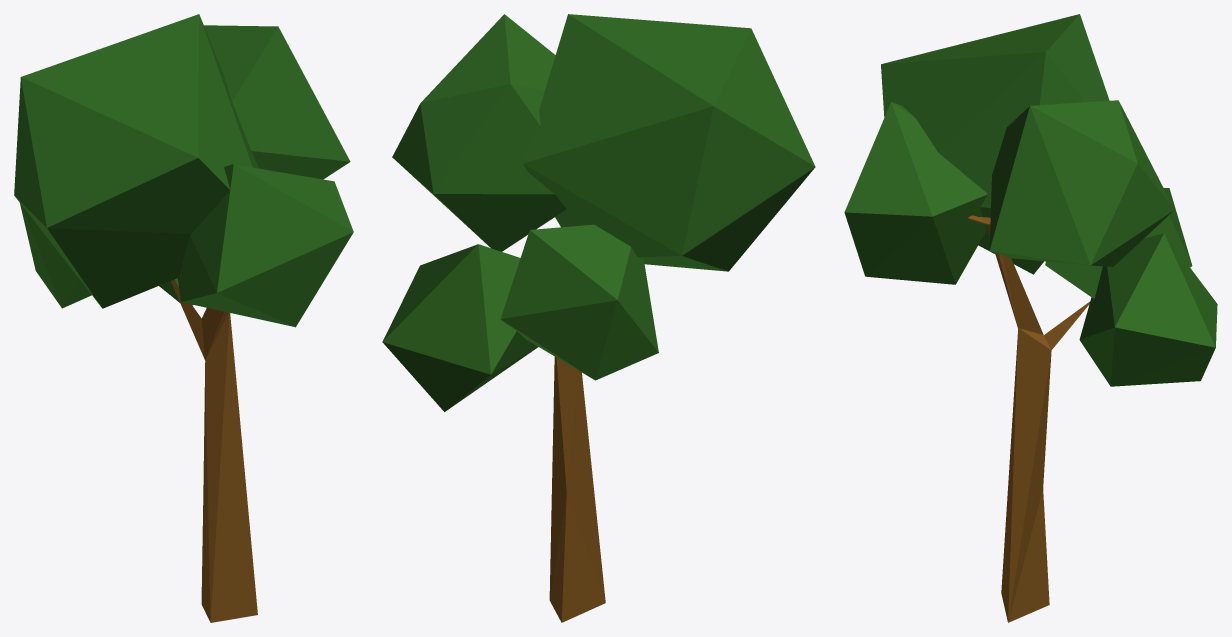
The model's file is tree1_1.dae.
3 views of the same model, side by side, from view 1: azimuth 30°, elevation 25°; view 2: azimuth 150°, elevation 25°; view 3: azimuth 270°, elevation 25° (orthographic). The views are drawn at different scales.
Visible parts, largest first — view 1: tree; view 2: tree; view 3: tree.
Part boxes in pixels (box(x1,y1,x2,y2)): tree: box(14, 14, 353, 622); tree: box(382, 14, 815, 622); tree: box(844, 14, 1217, 622).
Bounding box in the file's own units: 9.3 × 9.4 × 15.39.
